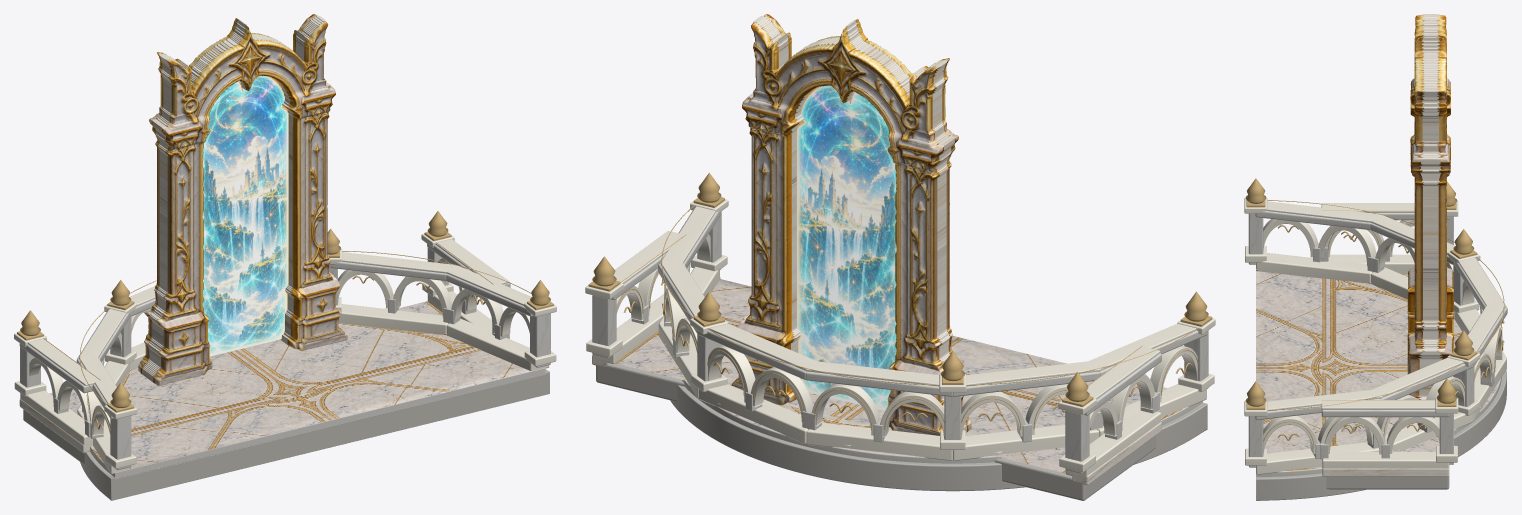
Rendered from river-architecture-v8.glb.
The picture shows the model from 3 angles, left to right: view 1: azimuth 30°, elevation 25°; view 2: azimuth 150°, elevation 25°; view 3: azimuth 270°, elevation 25°; orthographic projection. The views are drawn at different scales.
Parts seen in each view (by area): view 1: Portal, Reference terrace foundation, PortalAperture, Reference paving, Curved carved arcade.001, Curved carved arcade, BridgeLeftRail, BridgeRightRail, Curved carved arcade.005, Curved carved arcade.004, Terrace square pier.003, Terrace square pier (+6 smaller); view 2: Portal, PortalAperture, Reference terrace foundation, Curved carved arcade.003, Curved carved arcade.002, Curved carved arcade.004, Reference paving, BridgeLeftRail, Continuous bridge foundation, Curved carved arcade.005, BridgeRightRail, Curved carved arcade.001 (+8 smaller); view 3: Reference terrace foundation, Portal, Reference paving, BridgeRightRail, Curved carved arcade.005, Curved carved arcade, Curved carved arcade.001, Curved carved arcade.002, BridgeLeftRail, Curved carved arcade.004, Curved carved arcade.003, Continuous bridge foundation (+7 smaller).
Part boxes in pixels (left/top/right/bottom): Portal: left=138, top=14, right=347, bottom=385; Reference terrace foundation: left=80, top=333, right=549, bottom=500; PortalAperture: left=202, top=75, right=288, bottom=356; Reference paving: left=49, top=301, right=481, bottom=435; Curved carved arcade.001: left=330, top=251, right=455, bottom=335; Curved carved arcade: left=446, top=265, right=549, bottom=371; BridgeLeftRail: left=19, top=338, right=100, bottom=447; BridgeRightRail: left=427, top=239, right=510, bottom=339; Curved carved arcade.005: left=76, top=357, right=129, bottom=474; Curved carved arcade.004: left=76, top=308, right=130, bottom=410; Terrace square pier.003: left=104, top=382, right=137, bottom=470; Terrace square pier: left=524, top=280, right=556, bottom=367; Portal: left=731, top=14, right=971, bottom=435; PortalAperture: left=796, top=85, right=896, bottom=410; Reference terrace foundation: left=664, top=277, right=1207, bottom=491; Curved carved arcade.003: left=805, top=361, right=952, bottom=460; Curved carved arcade.002: left=698, top=323, right=817, bottom=443; Curved carved arcade.004: left=953, top=361, right=1099, bottom=460; Reference paving: left=613, top=317, right=1065, bottom=473; BridgeLeftRail: left=1065, top=345, right=1161, bottom=478; Continuous bridge foundation: left=596, top=363, right=1156, bottom=500; Curved carved arcade.005: left=1088, top=323, right=1207, bottom=436; BridgeRightRail: left=592, top=230, right=686, bottom=364; Curved carved arcade.001: left=658, top=262, right=704, bottom=398; Reference terrace foundation: left=1256, top=269, right=1506, bottom=500; Portal: left=1407, top=14, right=1453, bottom=399; Reference paving: left=1322, top=274, right=1439, bottom=451; BridgeRightRail: left=1320, top=400, right=1449, bottom=468; Curved carved arcade.005: left=1255, top=200, right=1379, bottom=283; Curved carved arcade: left=1255, top=390, right=1381, bottom=474; Curved carved arcade.001: left=1371, top=357, right=1473, bottom=451; Curved carved arcade.002: left=1467, top=305, right=1507, bottom=421; BridgeLeftRail: left=1321, top=203, right=1449, bottom=273; Curved carved arcade.004: left=1370, top=214, right=1454, bottom=319; Curved carved arcade.003: left=1454, top=257, right=1507, bottom=358; Continuous bridge foundation: left=1326, top=476, right=1449, bottom=489.
Size of the model in its own units: 8.76 by 6.84 by 4.56.
10 materials, 7 textured.
